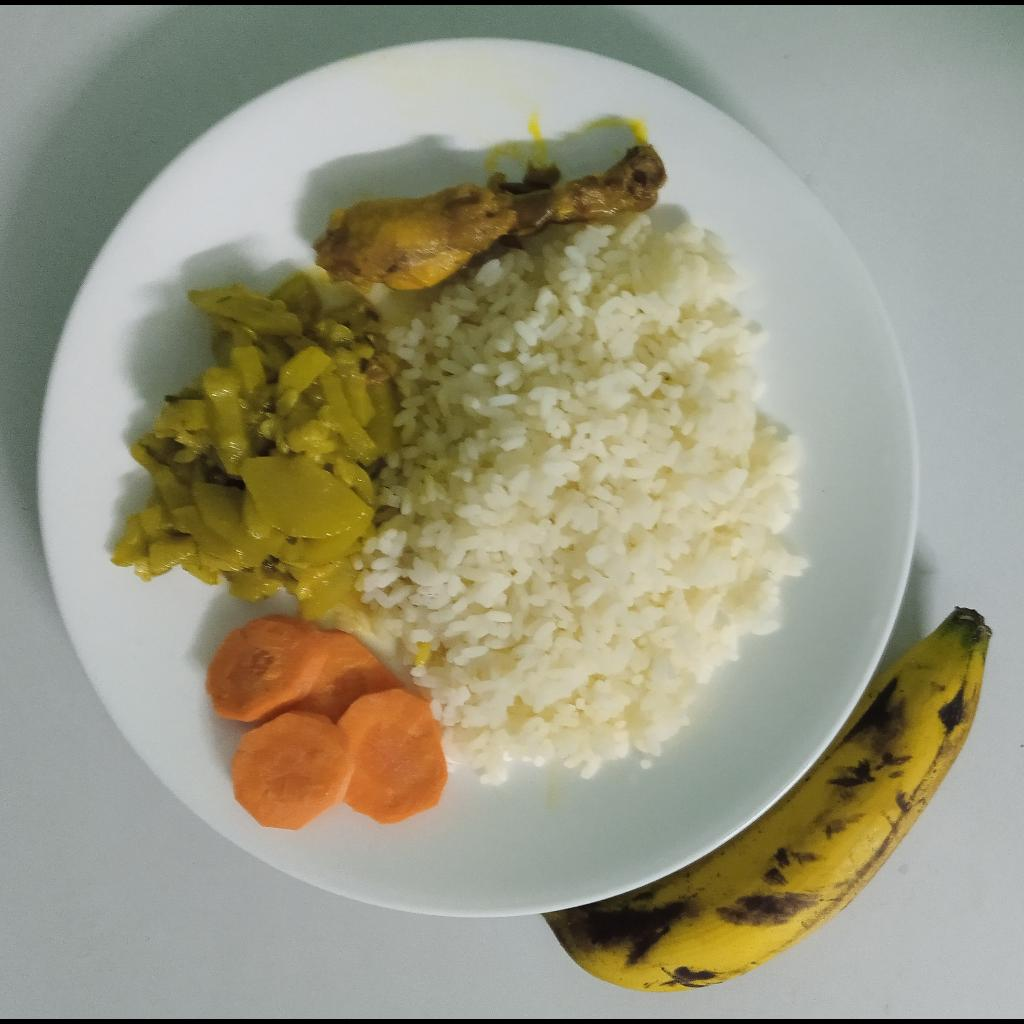banana: (543, 606, 991, 992)
carrot: (203, 612, 450, 830)
chicken: (312, 145, 666, 290)
dundol: (113, 272, 391, 616)
rice: (342, 219, 814, 777)
